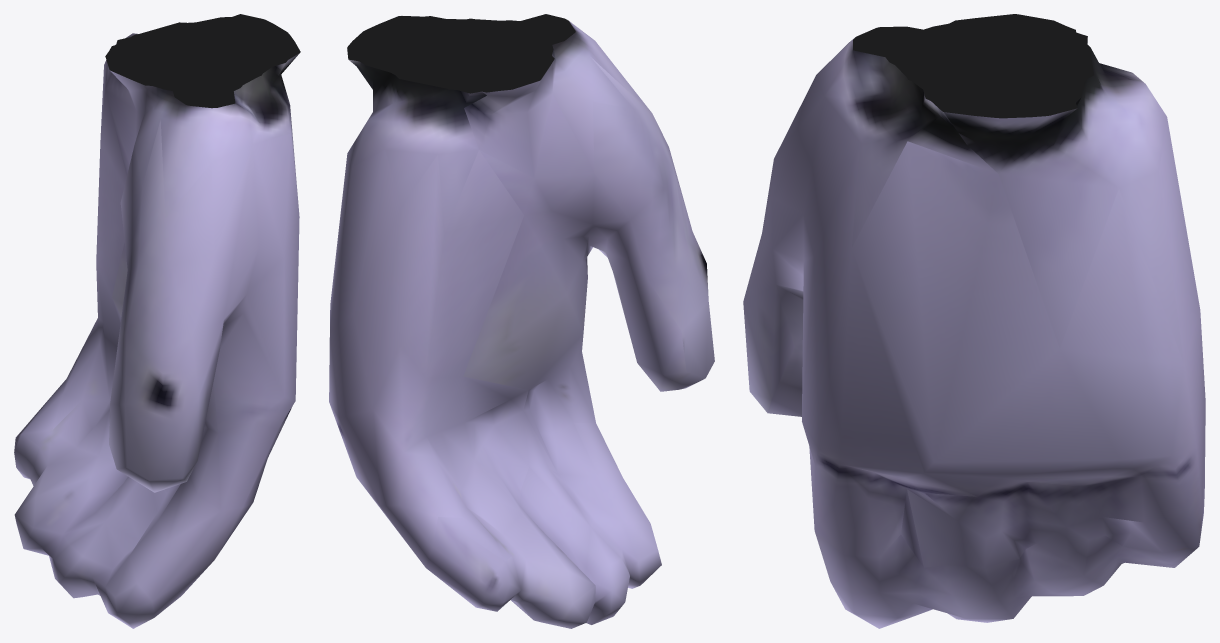
File: DummyHandL.obj
The picture shows the model from 3 angles, left to right: view 1: azimuth 30°, elevation 25°; view 2: azimuth 150°, elevation 25°; view 3: azimuth 270°, elevation 25°; orthographic projection. The views are drawn at different scales.
Bounding box in the file's own units: 1.5 × 2.97 × 1.96.
1 material, 1 textured.
